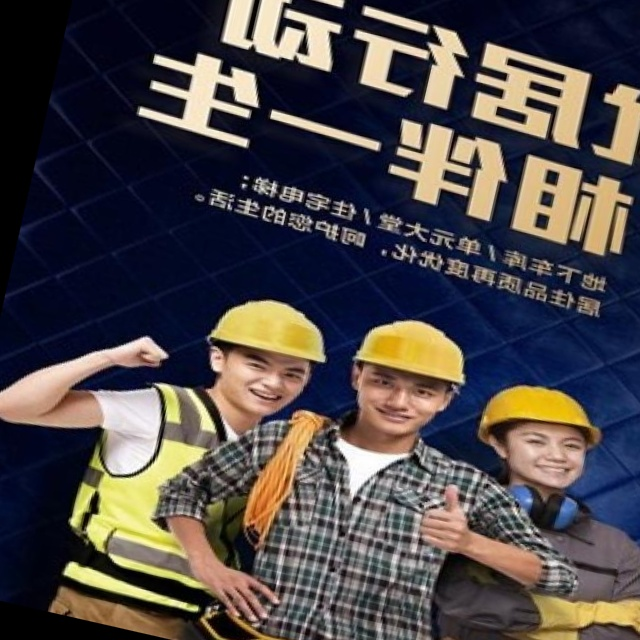Con_Casco: (338, 308, 471, 439), (473, 374, 618, 493), (202, 286, 333, 414)
